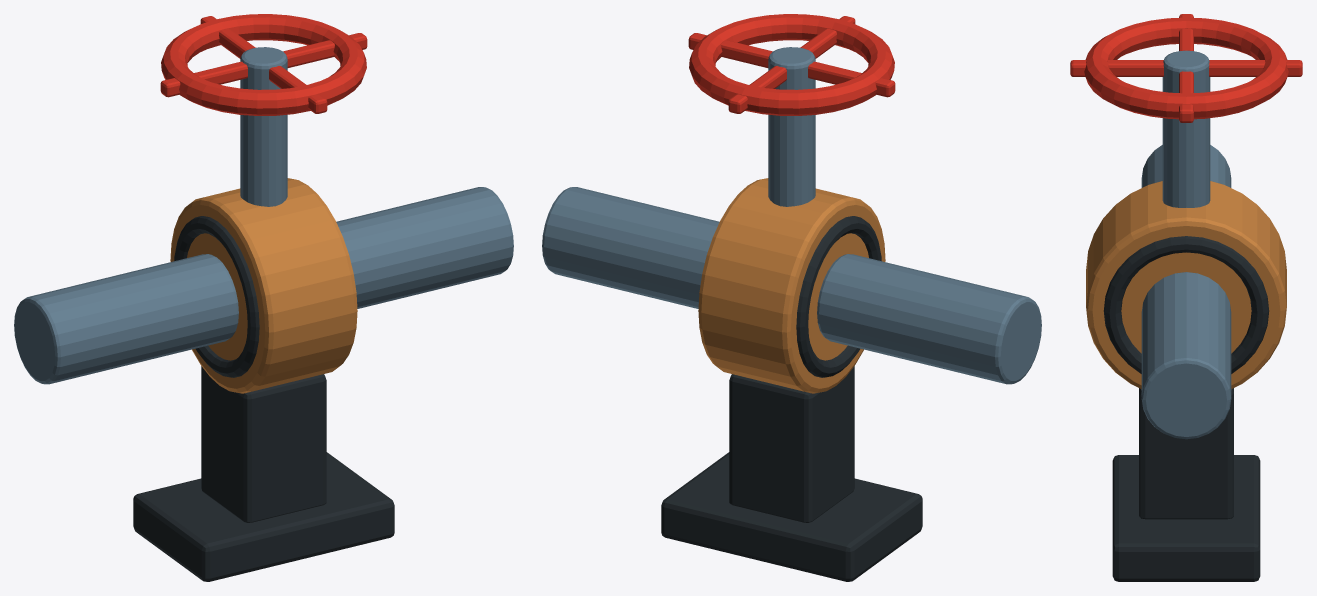
Rendered from utility-room-pipe-valve.glb.
3 renders of one model, left to right at view 1: azimuth 30°, elevation 25°; view 2: azimuth 150°, elevation 25°; view 3: azimuth 270°, elevation 25°, orthographic.
Visible parts, largest first — view 1: EXPORT_layout_a_valve_body, EXPORT_layout_a_pipe_segment_-0.30, EXPORT_layout_a_valve_floor_bracket, EXPORT_layout_a_valve_support_pedestal, EXPORT_layout_a_pipe_segment_+0.30, EXPORT_layout_a_valve_handwheel, EXPORT_layout_a_valve_stem, EXPORT_layout_a_pipe_flange_-0.30, EXPORT_layout_a_valve_spoke_2, EXPORT_layout_a_valve_spoke_0, EXPORT_layout_a_valve_spoke_3, EXPORT_layout_a_valve_spoke_1; view 2: EXPORT_layout_a_valve_body, EXPORT_layout_a_pipe_segment_-0.30, EXPORT_layout_a_valve_floor_bracket, EXPORT_layout_a_valve_support_pedestal, EXPORT_layout_a_pipe_segment_+0.30, EXPORT_layout_a_valve_handwheel, EXPORT_layout_a_valve_stem, EXPORT_layout_a_pipe_flange_-0.30, EXPORT_layout_a_valve_spoke_2, EXPORT_layout_a_valve_spoke_0, EXPORT_layout_a_valve_spoke_1, EXPORT_layout_a_valve_spoke_3; view 3: EXPORT_layout_a_valve_body, EXPORT_layout_a_pipe_segment_+0.30, EXPORT_layout_a_valve_floor_bracket, EXPORT_layout_a_valve_handwheel, EXPORT_layout_a_valve_support_pedestal, EXPORT_layout_a_pipe_flange_+0.30, EXPORT_layout_a_valve_stem, EXPORT_layout_a_pipe_segment_-0.30, EXPORT_layout_a_valve_spoke_1, EXPORT_layout_a_valve_spoke_3, EXPORT_layout_a_valve_spoke_0, EXPORT_layout_a_valve_spoke_2.
Boxes of the visible parts, bbox=[...] form: EXPORT_layout_a_valve_body: bbox=[170, 178, 357, 393]; EXPORT_layout_a_pipe_segment_-0.30: bbox=[14, 254, 238, 384]; EXPORT_layout_a_valve_floor_bracket: bbox=[133, 452, 394, 581]; EXPORT_layout_a_valve_support_pedestal: bbox=[201, 366, 326, 522]; EXPORT_layout_a_pipe_segment_+0.30: bbox=[336, 187, 513, 308]; EXPORT_layout_a_valve_handwheel: bbox=[161, 14, 366, 115]; EXPORT_layout_a_valve_stem: bbox=[240, 47, 287, 206]; EXPORT_layout_a_pipe_flange_-0.30: bbox=[174, 216, 259, 377]; EXPORT_layout_a_valve_spoke_2: bbox=[160, 61, 247, 97]; EXPORT_layout_a_valve_spoke_0: bbox=[283, 33, 367, 67]; EXPORT_layout_a_valve_spoke_3: bbox=[269, 66, 327, 113]; EXPORT_layout_a_valve_spoke_1: bbox=[200, 16, 255, 58]; EXPORT_layout_a_valve_body: bbox=[698, 178, 885, 393]; EXPORT_layout_a_pipe_segment_-0.30: bbox=[817, 254, 1041, 384]; EXPORT_layout_a_valve_floor_bracket: bbox=[661, 452, 922, 581]; EXPORT_layout_a_valve_support_pedestal: bbox=[729, 366, 854, 522]; EXPORT_layout_a_pipe_segment_+0.30: bbox=[542, 187, 719, 308]; EXPORT_layout_a_valve_handwheel: bbox=[689, 14, 894, 115]; EXPORT_layout_a_valve_stem: bbox=[768, 47, 815, 206]; EXPORT_layout_a_pipe_flange_-0.30: bbox=[796, 216, 881, 377]; EXPORT_layout_a_valve_spoke_2: bbox=[808, 61, 895, 97]; EXPORT_layout_a_valve_spoke_0: bbox=[688, 33, 772, 67]; EXPORT_layout_a_valve_spoke_1: bbox=[728, 66, 786, 113]; EXPORT_layout_a_valve_spoke_3: bbox=[800, 16, 855, 58]; EXPORT_layout_a_valve_body: bbox=[1086, 181, 1286, 388]; EXPORT_layout_a_pipe_segment_+0.30: bbox=[1141, 272, 1231, 439]; EXPORT_layout_a_valve_floor_bracket: bbox=[1112, 455, 1260, 581]; EXPORT_layout_a_valve_handwheel: bbox=[1084, 17, 1288, 119]; EXPORT_layout_a_valve_support_pedestal: bbox=[1139, 388, 1233, 519]; EXPORT_layout_a_pipe_flange_+0.30: bbox=[1103, 236, 1269, 373]; EXPORT_layout_a_valve_stem: bbox=[1162, 50, 1210, 207]; EXPORT_layout_a_pipe_segment_-0.30: bbox=[1141, 145, 1231, 187]; EXPORT_layout_a_valve_spoke_1: bbox=[1209, 60, 1302, 76]; EXPORT_layout_a_valve_spoke_3: bbox=[1070, 60, 1163, 76]; EXPORT_layout_a_valve_spoke_0: bbox=[1179, 71, 1193, 122]; EXPORT_layout_a_valve_spoke_2: bbox=[1179, 14, 1193, 50].
Size of the model in its own units: 1 by 1 by 0.44.
